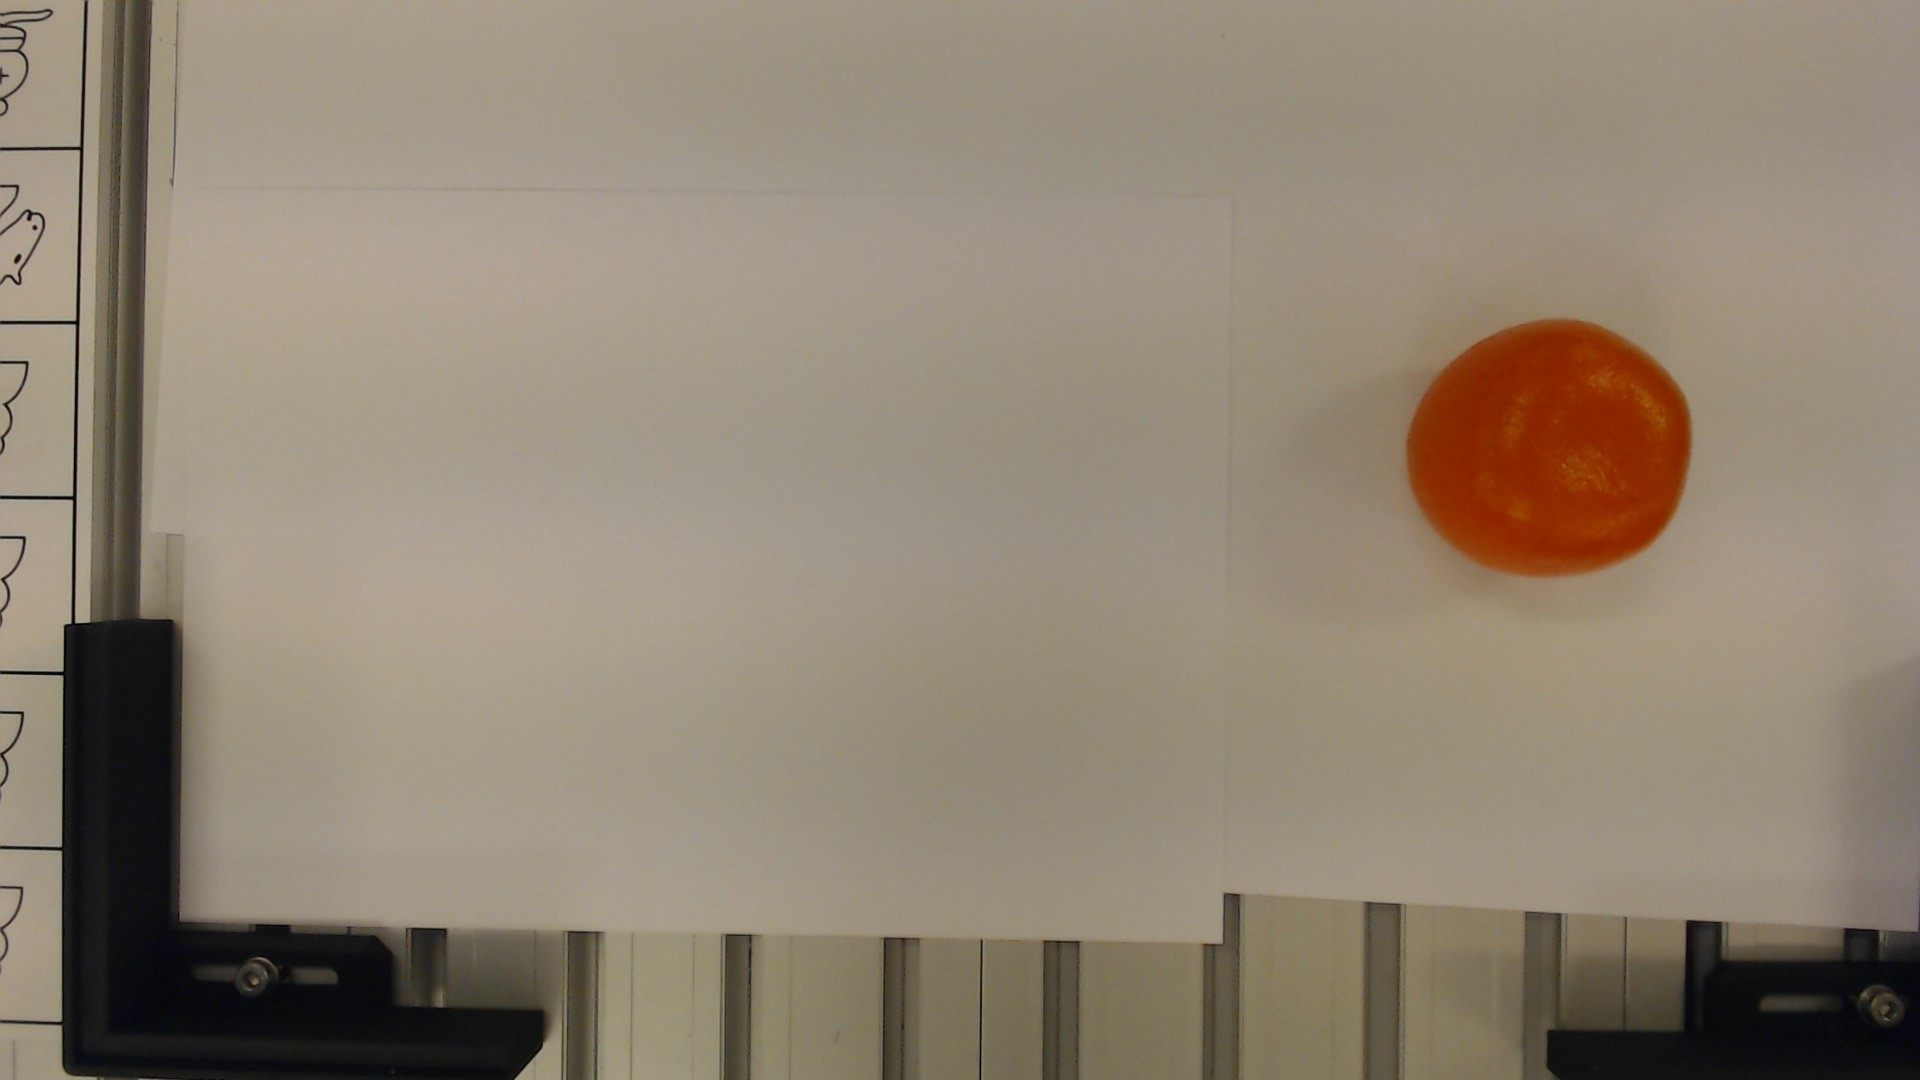Mandarin: (1403, 306, 1698, 582)
